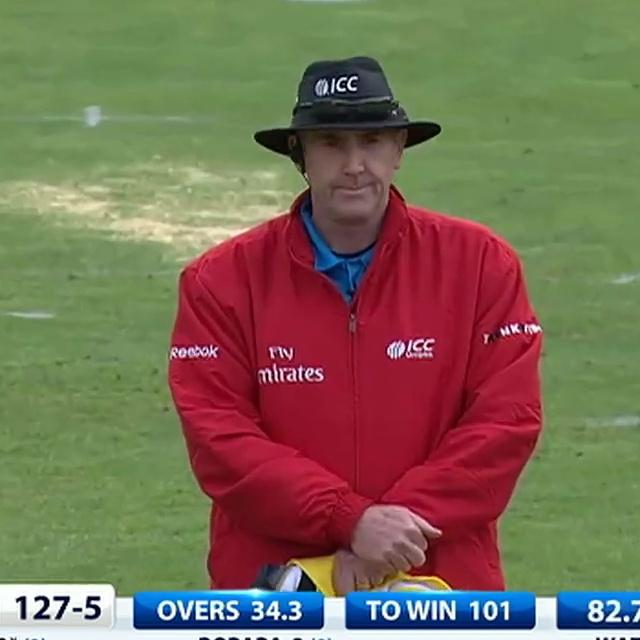umpire: (142, 27, 571, 590)
